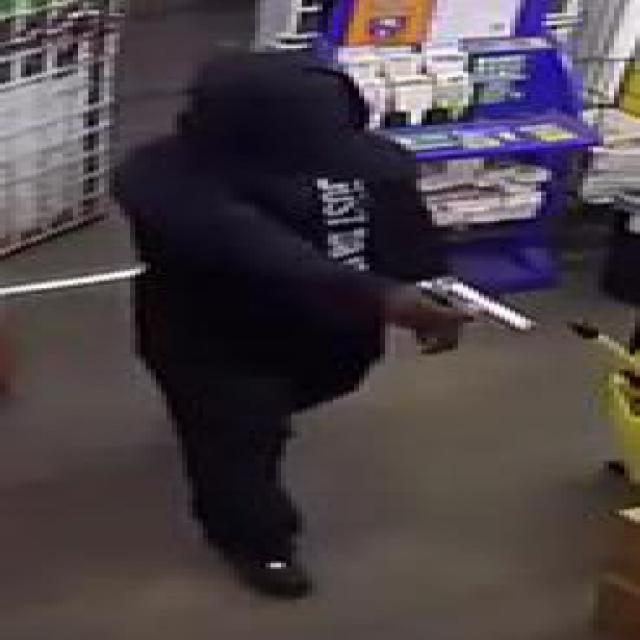weapon: (412, 273, 538, 358)
